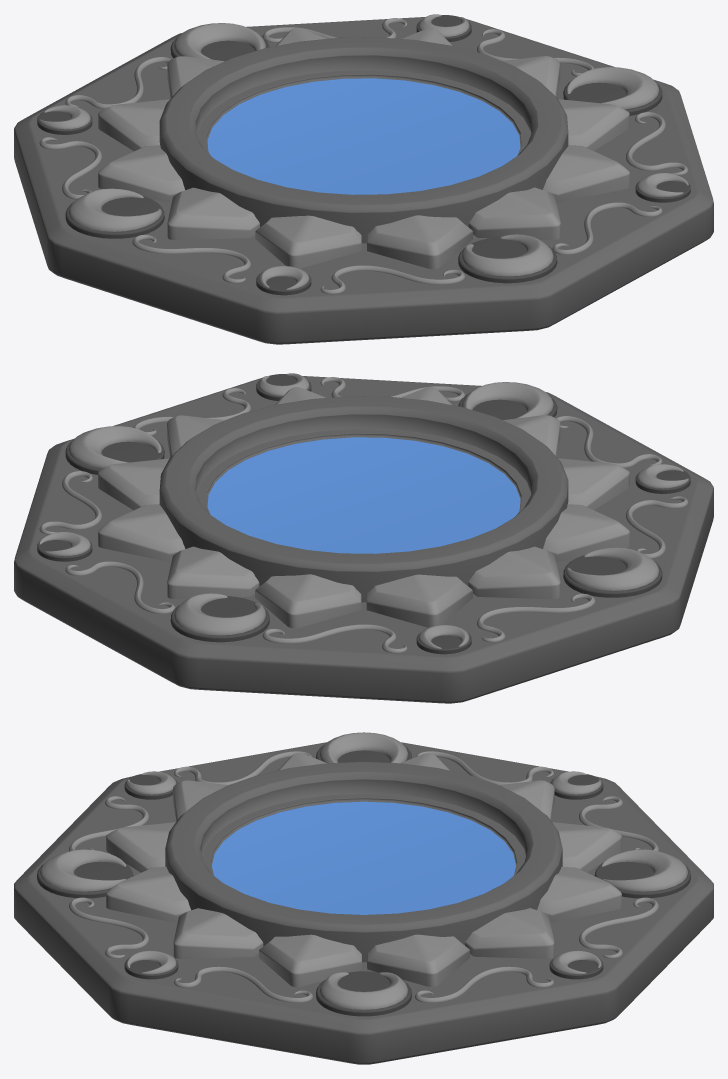
Rendered from Checkpoint.fbx.
3 views of the same model, one above another, from view 1: azimuth 30°, elevation 25°; view 2: azimuth 150°, elevation 25°; view 3: azimuth 270°, elevation 25° (orthographic). The views are drawn at different scales.
Visible parts, largest first — view 1: CheckPoint; view 2: CheckPoint; view 3: CheckPoint.
Part boxes in pixels (x1,y1,x2,y2): CheckPoint: (14, 14, 713, 344); CheckPoint: (14, 373, 713, 703); CheckPoint: (14, 732, 713, 1064).
Bounding box in the file's own units: 352 × 41.85 × 352.
